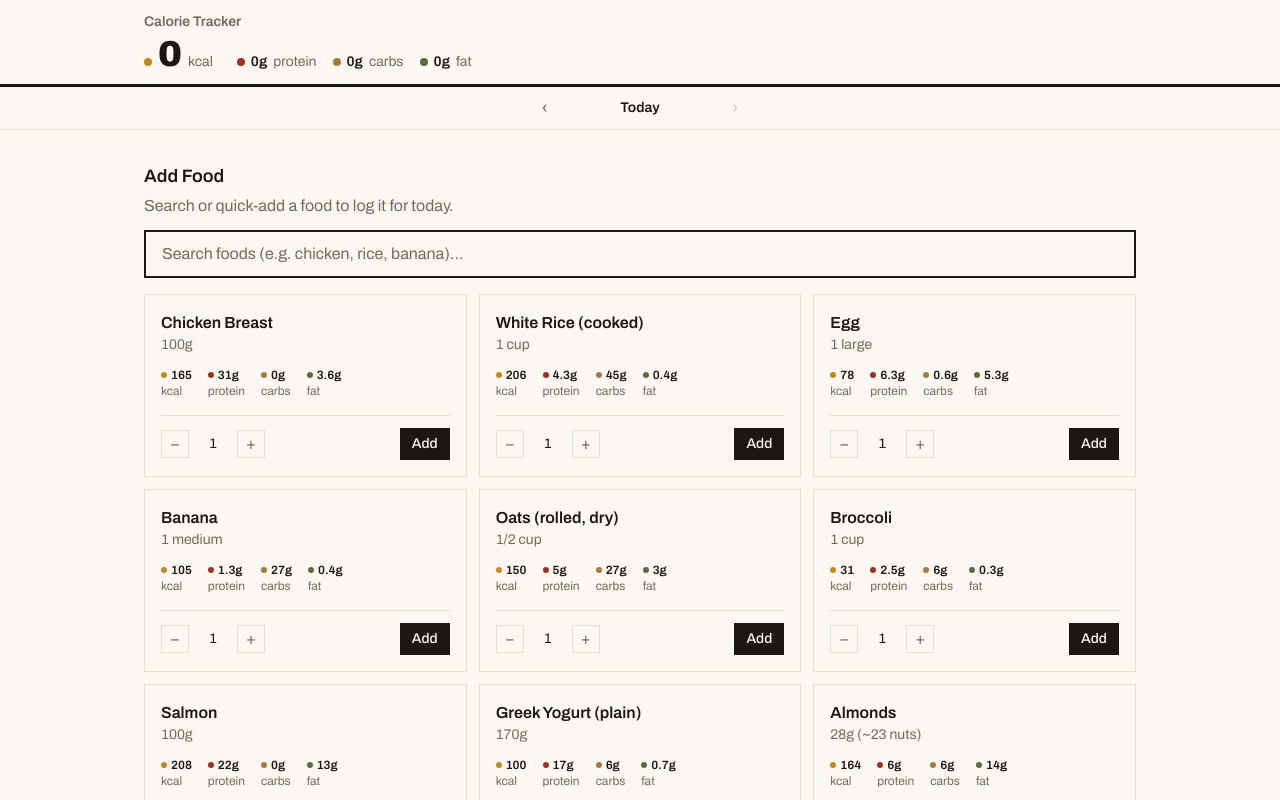
App (integration: search -> add -> log display -> totals -> delete -> date navigation) › searching for and adding a food logs a correctly-scaled entry via the backend
Type "Chicken Breast" into the field labelled "Search foods (e.g. chicken, rice, banana)…". click: (640, 254)
box: top-left (144, 230), bottom-right (1136, 278)
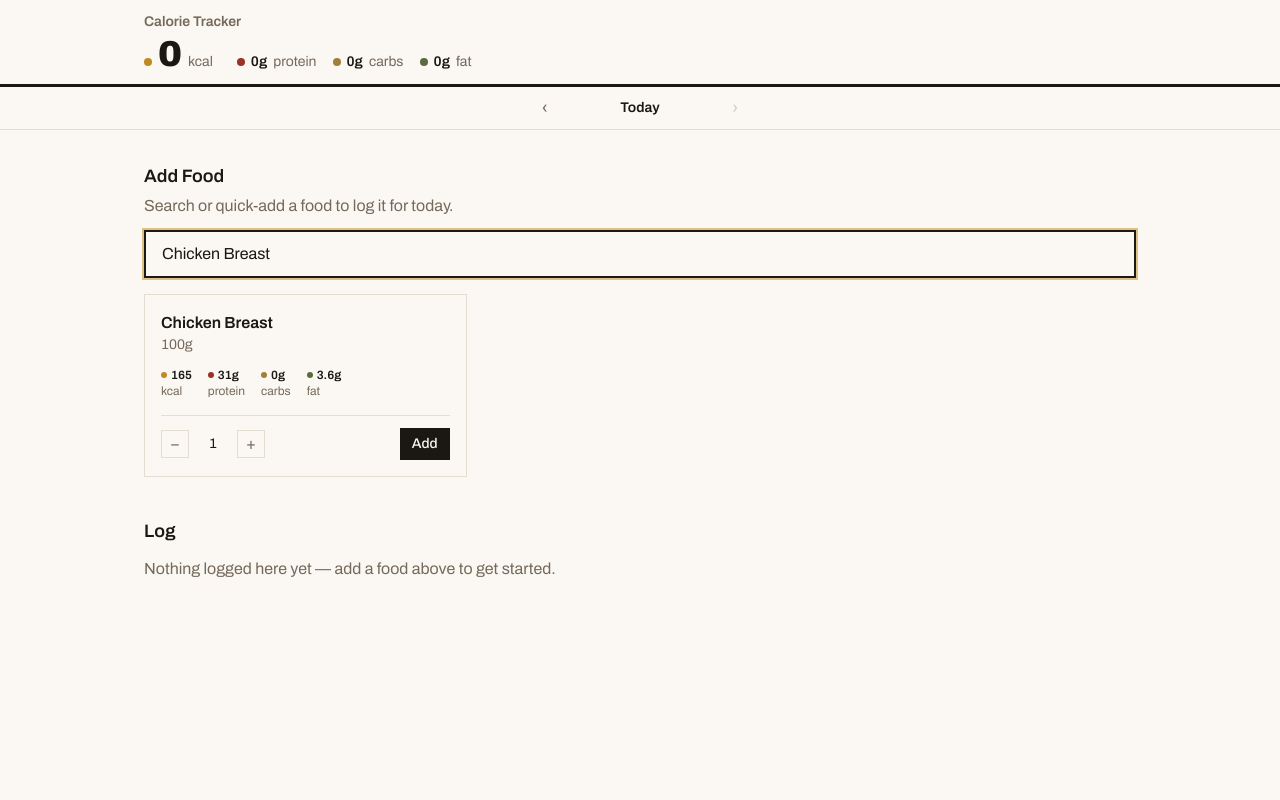
Click the button named "increase quantity". click: (251, 444)
box: top-left (237, 430), bottom-right (265, 458)
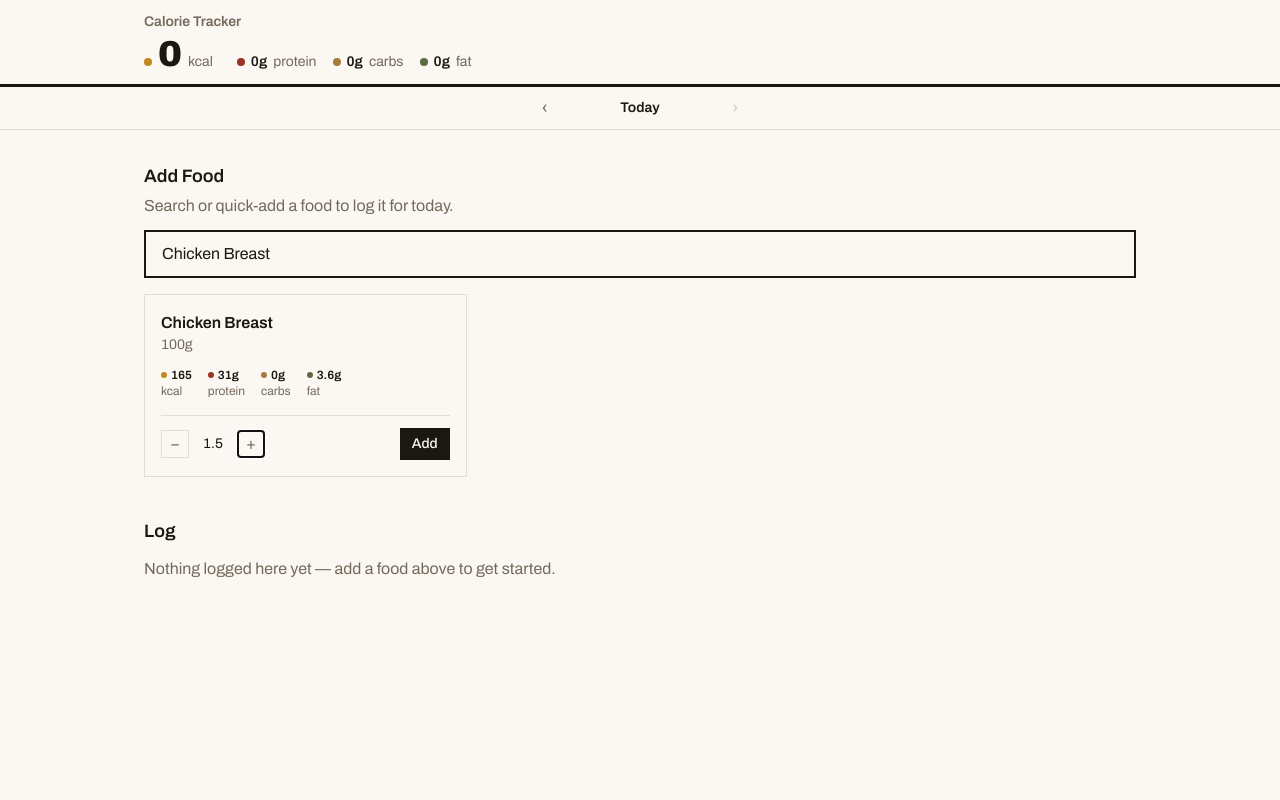
Click the button "Add". click: (425, 444)
box: top-left (400, 428), bottom-right (450, 460)
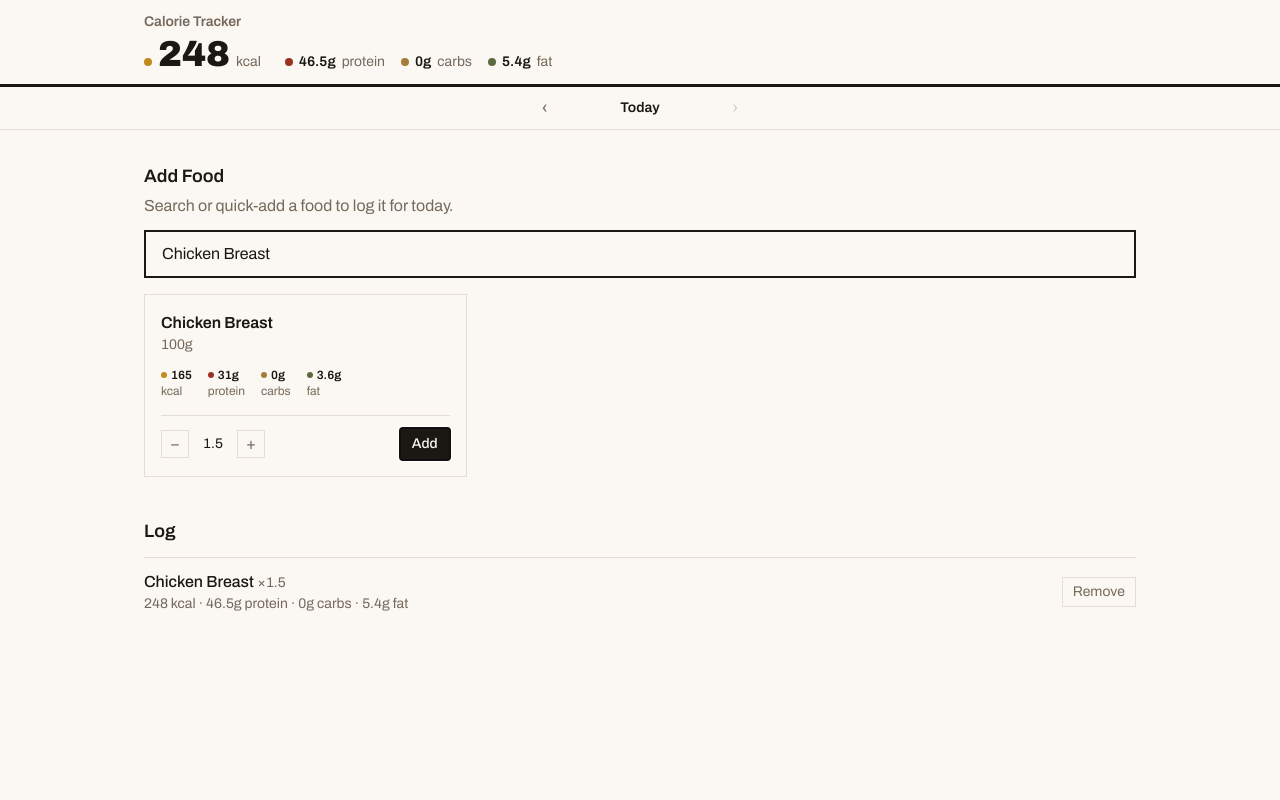
Result: the text "Chicken Breast" is shown at top-left (144, 573), bottom-right (254, 590)
Result: the text "×1.5" is shown at top-left (257, 575), bottom-right (286, 590)
Result: the text "248" is shown at top-left (158, 36), bottom-right (230, 72)
